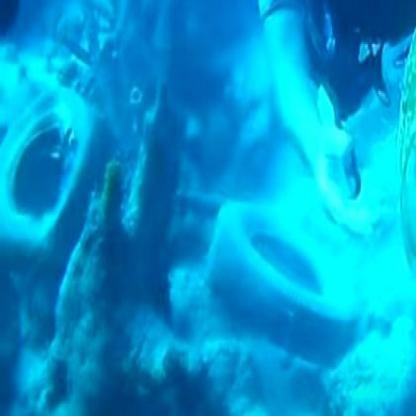tire: (220, 220, 380, 392), (2, 88, 97, 292)
